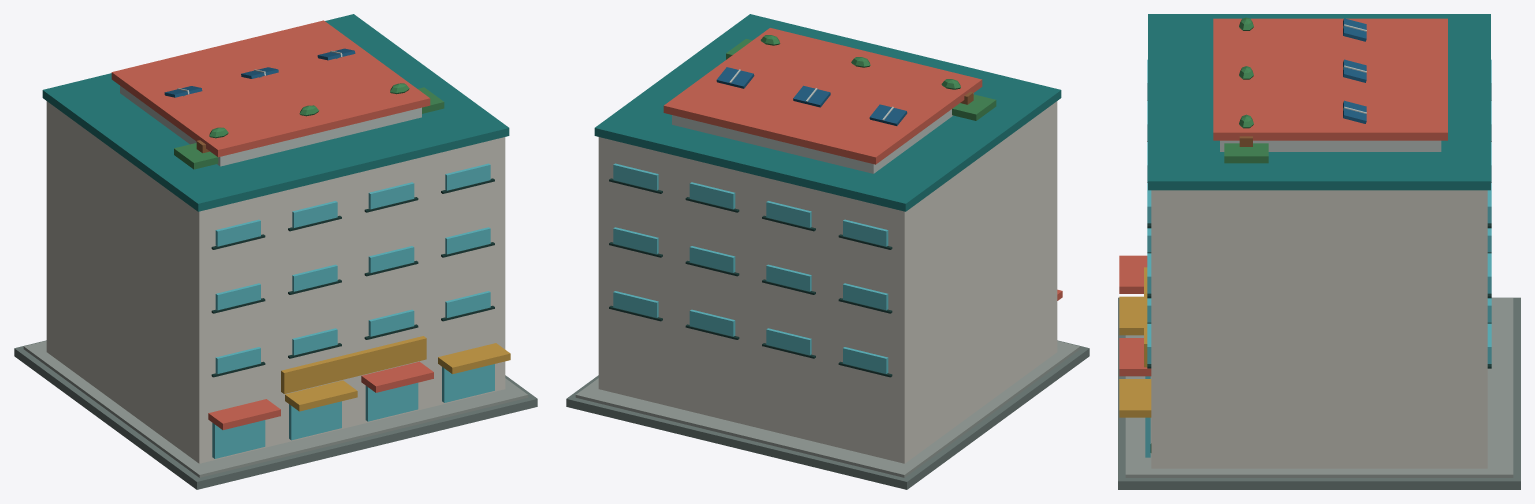
The model's file is market_lv4.glb.
3 renders of one model, left to right at view 1: azimuth 30°, elevation 25°; view 2: azimuth 150°, elevation 25°; view 3: azimuth 270°, elevation 25°, orthographic. The views are drawn at different scales.
Visible parts, largest first — view 1: rough, glossy, metallic; view 2: rough, glossy, metallic; view 3: rough, glossy, metallic.
Part boxes in pixels (x1=…): rough: x1=14, y1=14, x2=537, y2=489; glossy: x1=212, y1=163, x2=494, y2=458; metallic: x1=164, y1=48, x2=355, y2=97; rough: x1=566, y1=14, x2=1089, y2=489; glossy: x1=613, y1=163, x2=888, y2=373; metallic: x1=716, y1=67, x2=907, y2=125; rough: x1=1118, y1=14, x2=1520, y2=489; glossy: x1=1145, y1=59, x2=1491, y2=457; metallic: x1=1343, y1=18, x2=1366, y2=123.
Bounding box in the file's own units: 9.8 × 8.29 × 9.1.
